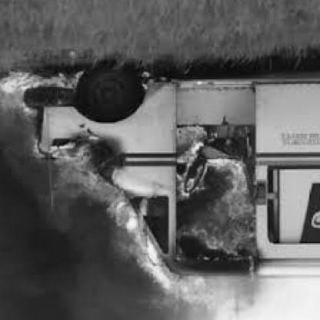Fire: (3, 67, 267, 309)
